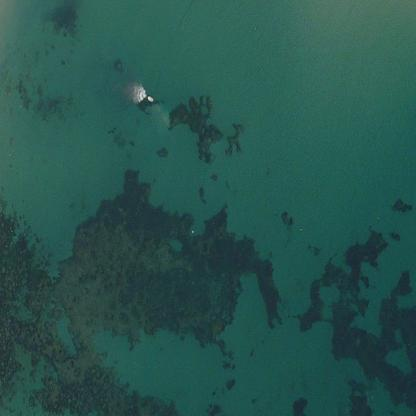ship: (140, 86, 158, 107)
